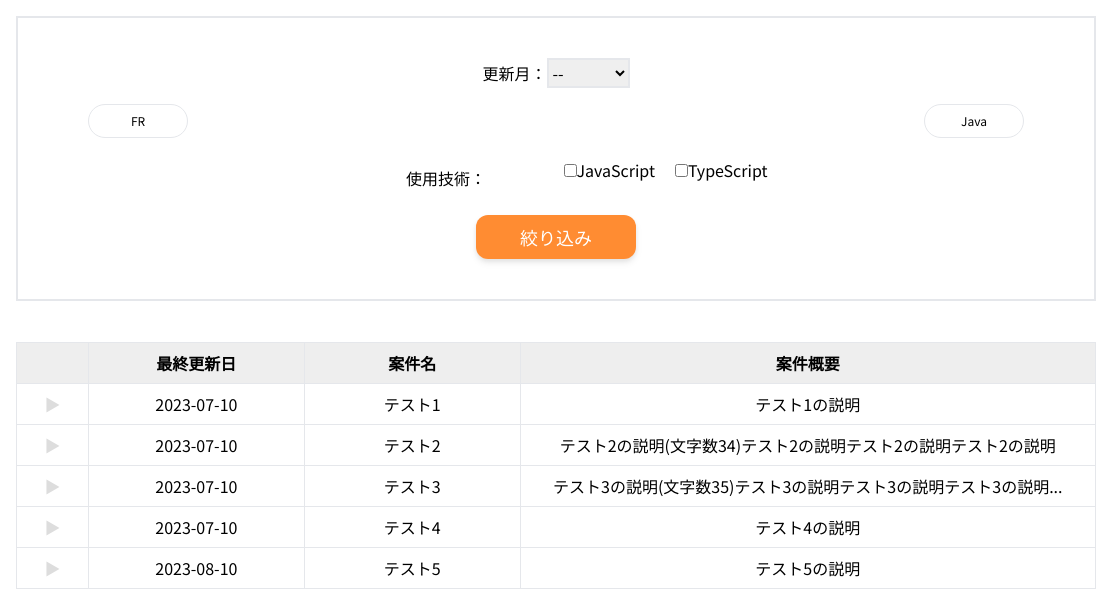
Scenario: select › 絞り込みテスト › 絞り込みapiリクエストのテスト › 回答月+スキルの選択
Step 1. Select "2023-07" in the dropdown with test id "month" → (588, 73), box x1=546 y1=58 x2=630 y2=88
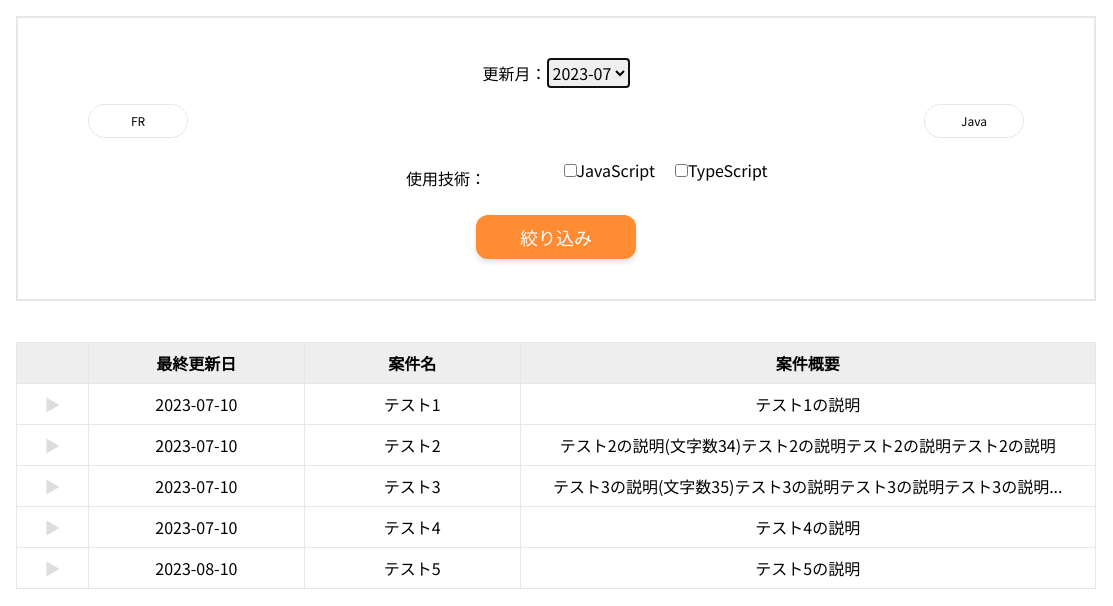
Step 2. Click the checkbox labelled "JavaScript" → (570, 171), box x1=564 y1=164 x2=576 y2=177
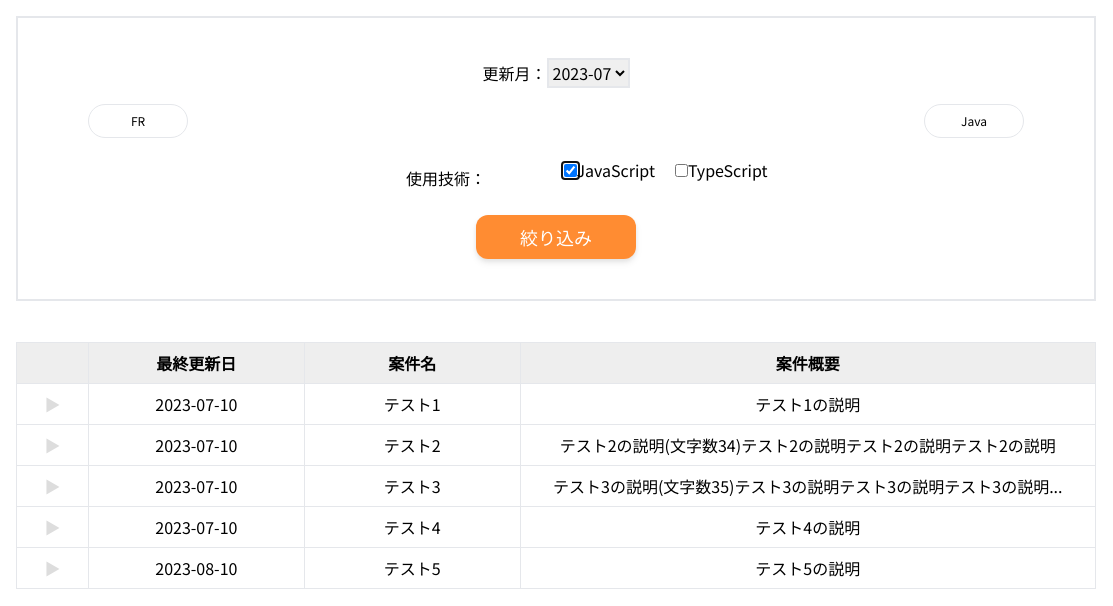
Step 3. Click the button "絞り込み" → (556, 236), box x1=476 y1=214 x2=636 y2=258
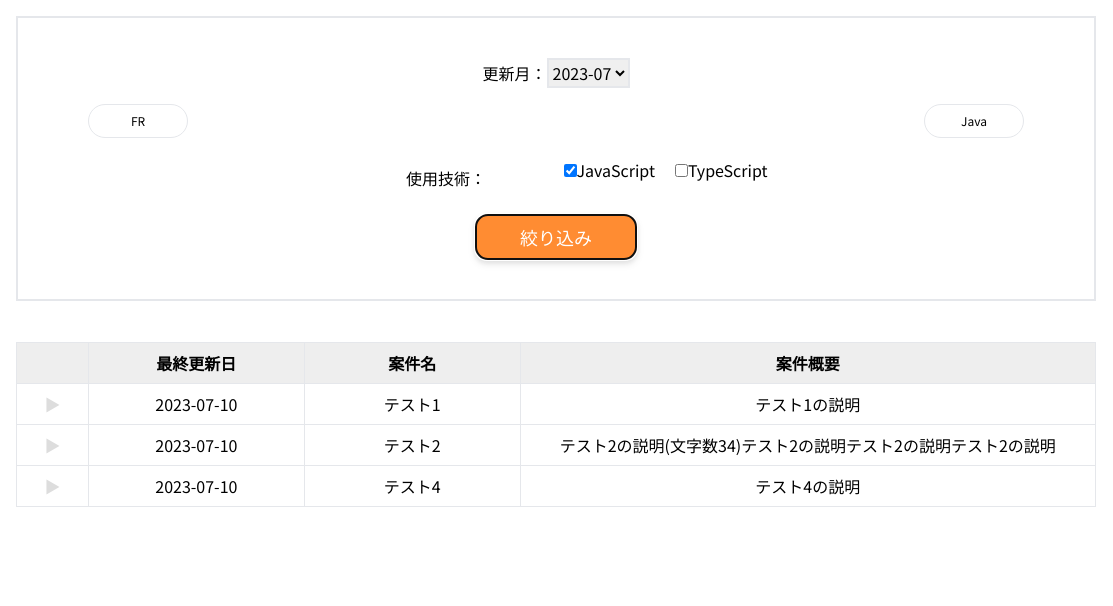
Check: the text "テスト1" is shown, box x1=304 y1=383 x2=520 y2=424
Check: the text "テスト3" is gone
Check: the text "テスト5" is gone
